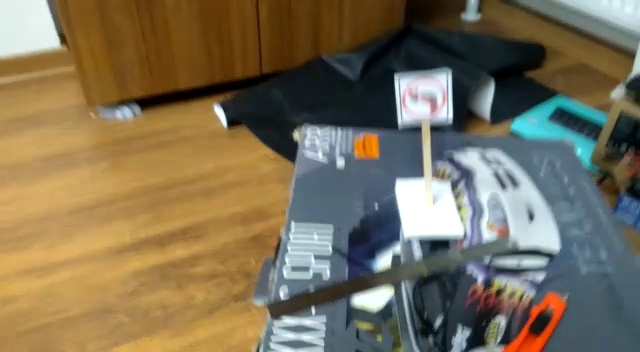sola_donulmez: (401, 69, 449, 123)
